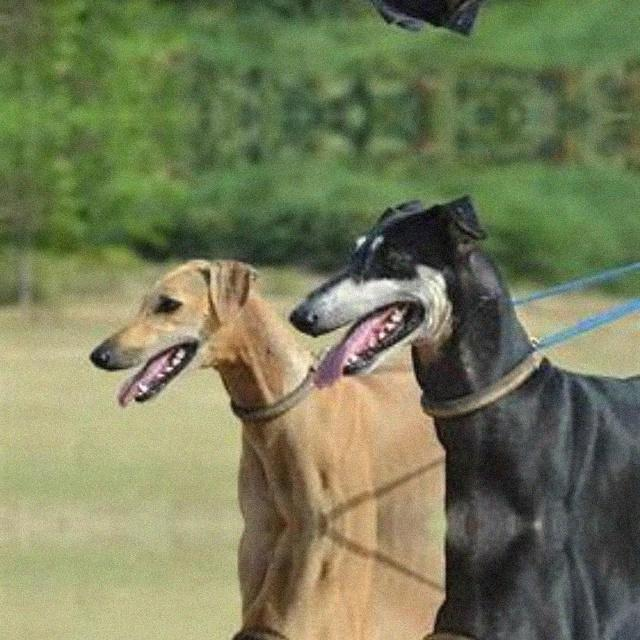dog: (287, 182, 637, 520), (287, 528, 637, 640), (88, 246, 280, 444), (287, 0, 637, 48), (89, 604, 280, 640)
